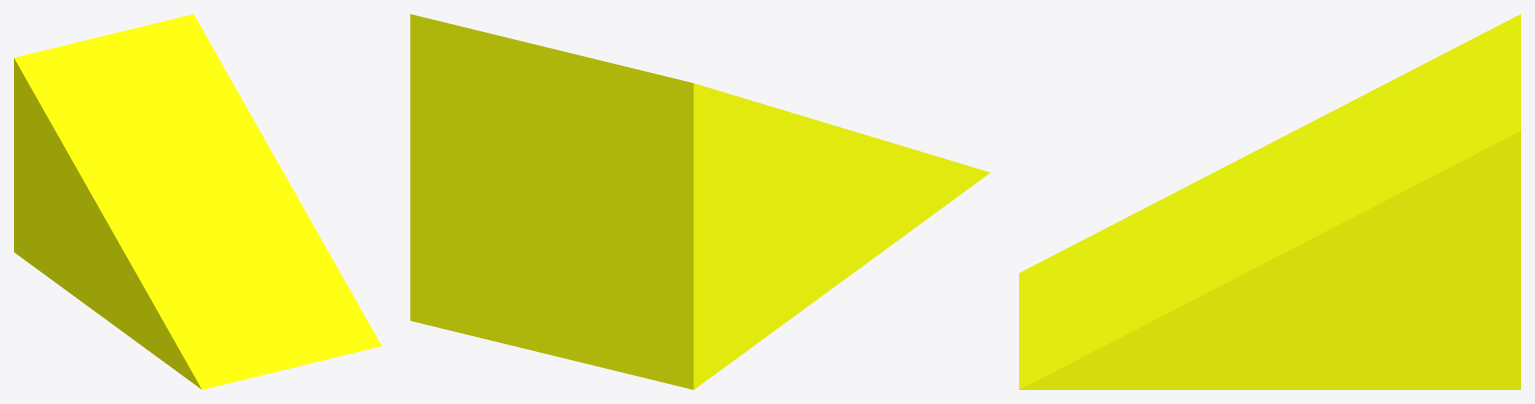
The model's file is BaseRamp.003.glb.
3 renders of one model, left to right at view 1: azimuth 30°, elevation 25°; view 2: azimuth 150°, elevation 25°; view 3: azimuth 270°, elevation 25°, orthographic. The views are drawn at different scales.
Visible parts, largest first — view 1: BaseRamp.003; view 2: BaseRamp.003; view 3: BaseRamp.003.
Boxes of the visible parts, x1=… form: BaseRamp.003: x1=14, y1=14, x2=381, y2=389; BaseRamp.003: x1=410, y1=14, x2=990, y2=389; BaseRamp.003: x1=1019, y1=14, x2=1520, y2=389.
Size of what is drawn, in the model's own units: 1.85 by 1.91 by 3.35.
1 material, 1 textured.
